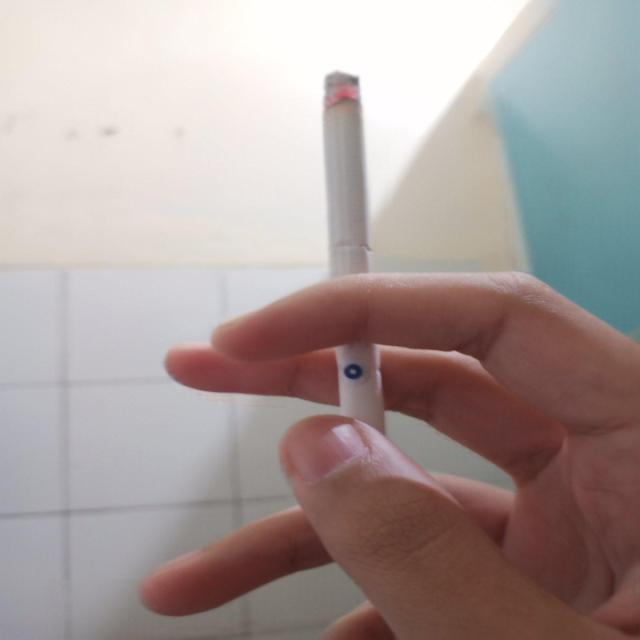rokok: (298, 59, 400, 440)
